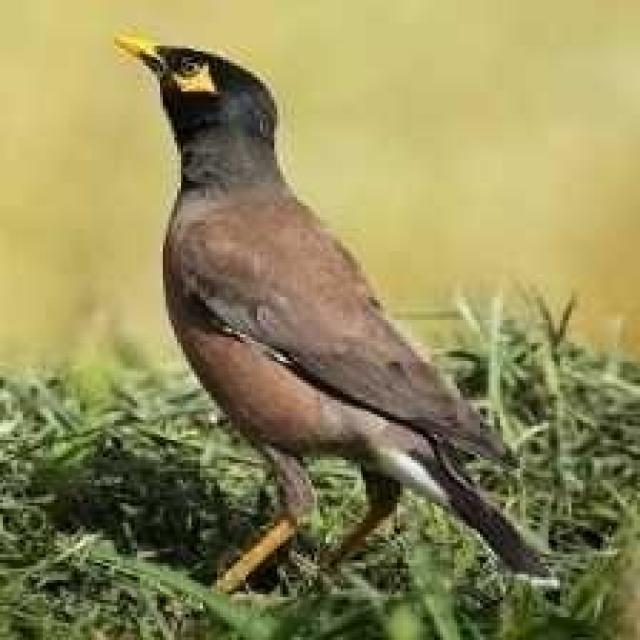bird: (104, 29, 568, 603)
